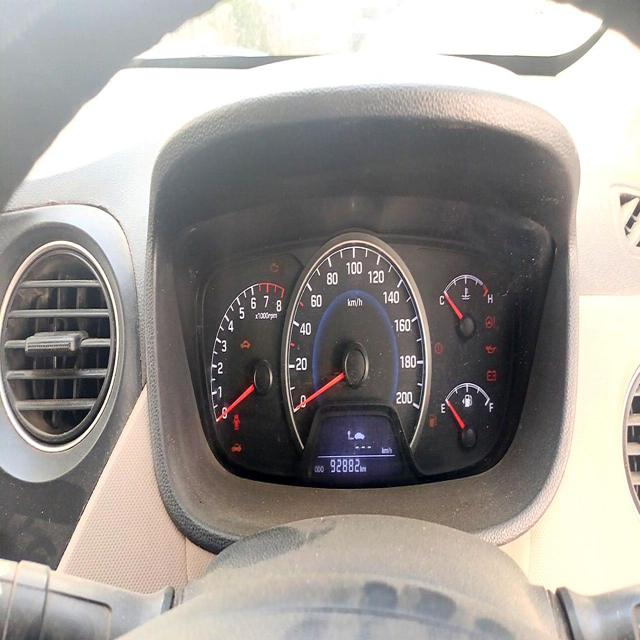odometer: (327, 456, 363, 476)
